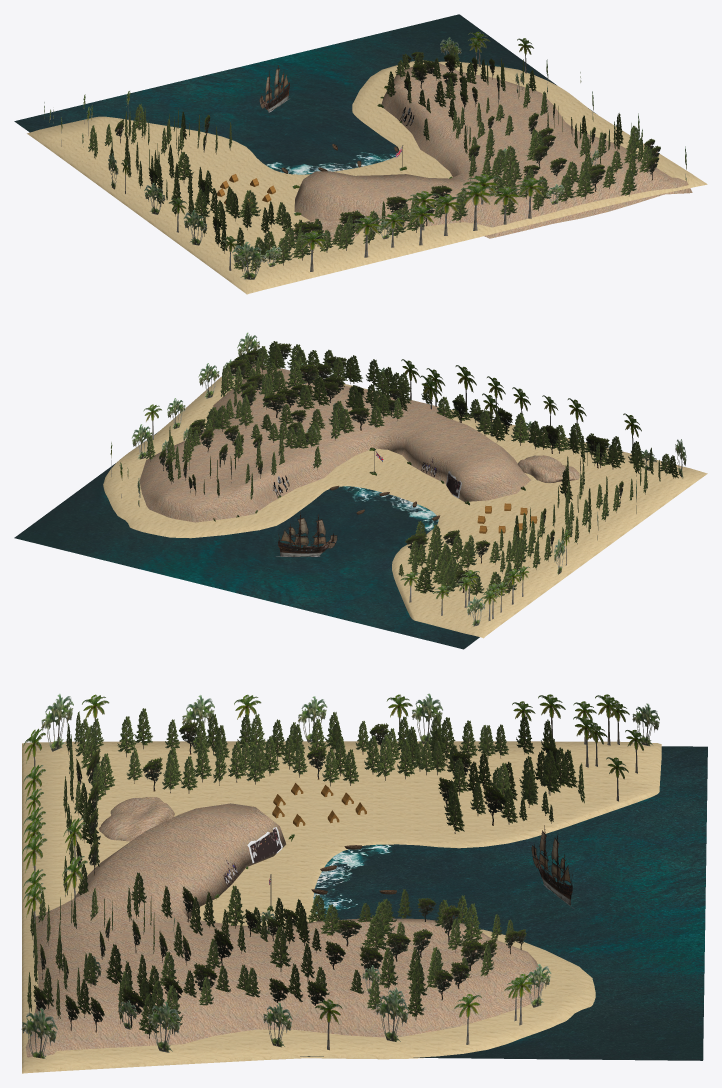
Rendered from jemba.dae.
3 renders of one model, top to bottom at view 1: azimuth 30°, elevation 25°; view 2: azimuth 150°, elevation 25°; view 3: azimuth 270°, elevation 25°, orthographic. The views are drawn at different scales.
Parts seen in each view (by area): view 1: sand, water, rock, hotspot-ship, Plane520, Plane541, Plane519; view 2: sand, water, rock, hotspot-ship, rock-small; view 3: sand, water, rock, rock-small, hotspot-ship, Plane515, Plane520, Plane152, Plane513, Plane517, hotspot-settlers, hotspot-camps (+3 smaller).
Part boxes in pixels (x1,y1,x2,y2): sand: (27,60,707,294); water: (14,14,595,174); rock: (294,63,692,238); hotspot-ship: (259,65,289,112); Plane520: (232,241,265,279); Plane541: (456,184,494,230); Plane519: (183,210,207,245); sand: (103,368,707,638); water: (14,431,479,649); rock: (139,364,530,522); hotspot-ship: (276,512,337,556); rock-small: (517,455,579,482); sand: (22,741,661,1073); water: (300,746,707,1060); rock: (25,803,544,1057); rock-small: (99,797,174,841); hotspot-ship: (531,825,574,908); Plane515: (21,1008,57,1058); Plane520: (41,693,73,751); Plane152: (376,991,408,1041); Plane513: (148,1001,180,1052); Plane517: (411,693,442,744); hotspot-settlers: (247,827,282,862); hotspot-camps: (272,783,366,826).
Bounding box in the file's own units: 19.57 × 17.53 × 2.41.
Materials: 17 (15 with a texture image).
